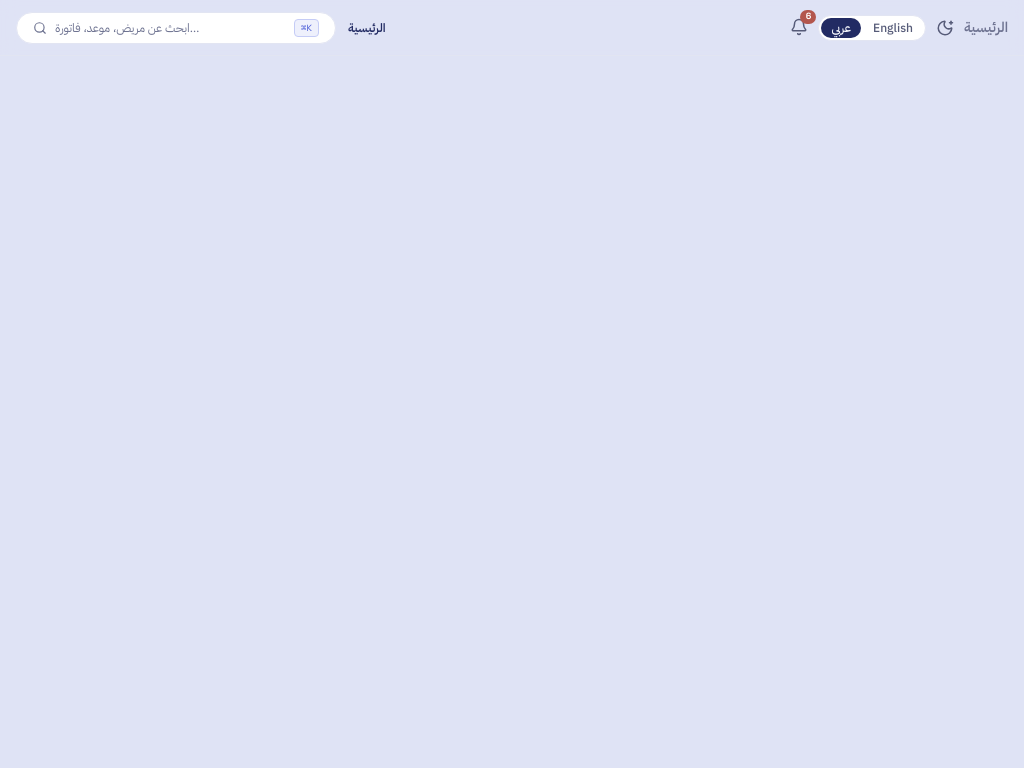
Test: الشريط العلوي على هوية المرجع › قائمة الجرس تسرد مداخل الشارات الموجبة فقط وتربتها على صفحاتها
This screenshot has width=1024, height=768.
Click the button named "التنبيهات (6)": (799, 27) [784, 12, 814, 42]
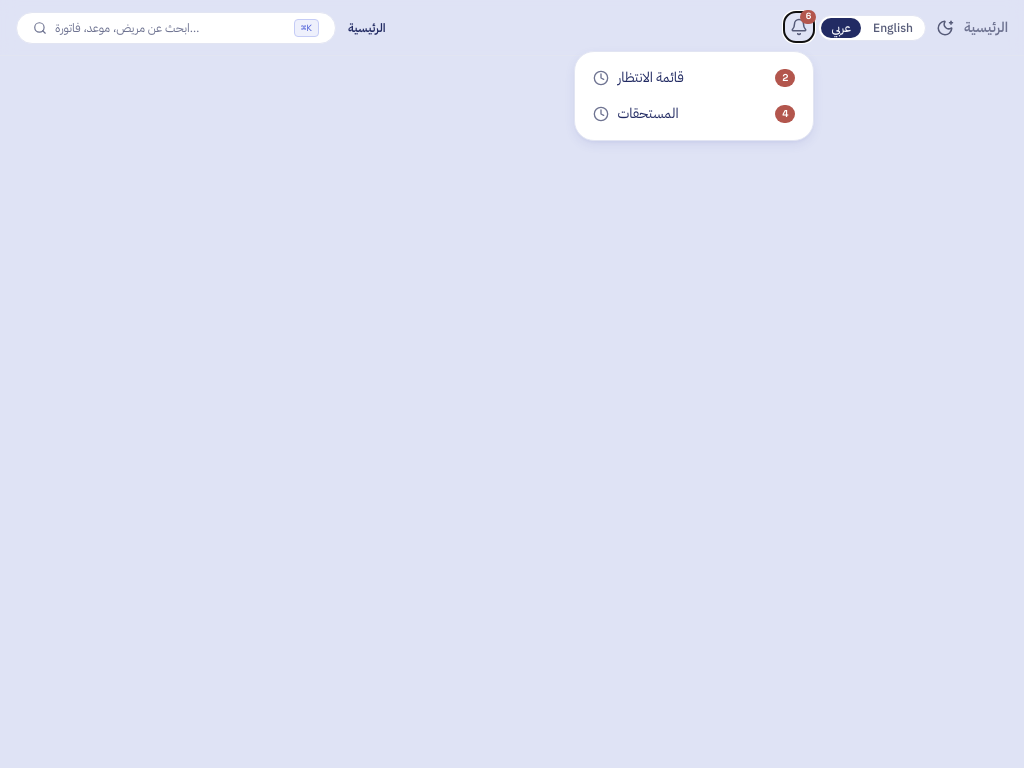
Check: the text "4" is shown, box [775, 105, 795, 123]
